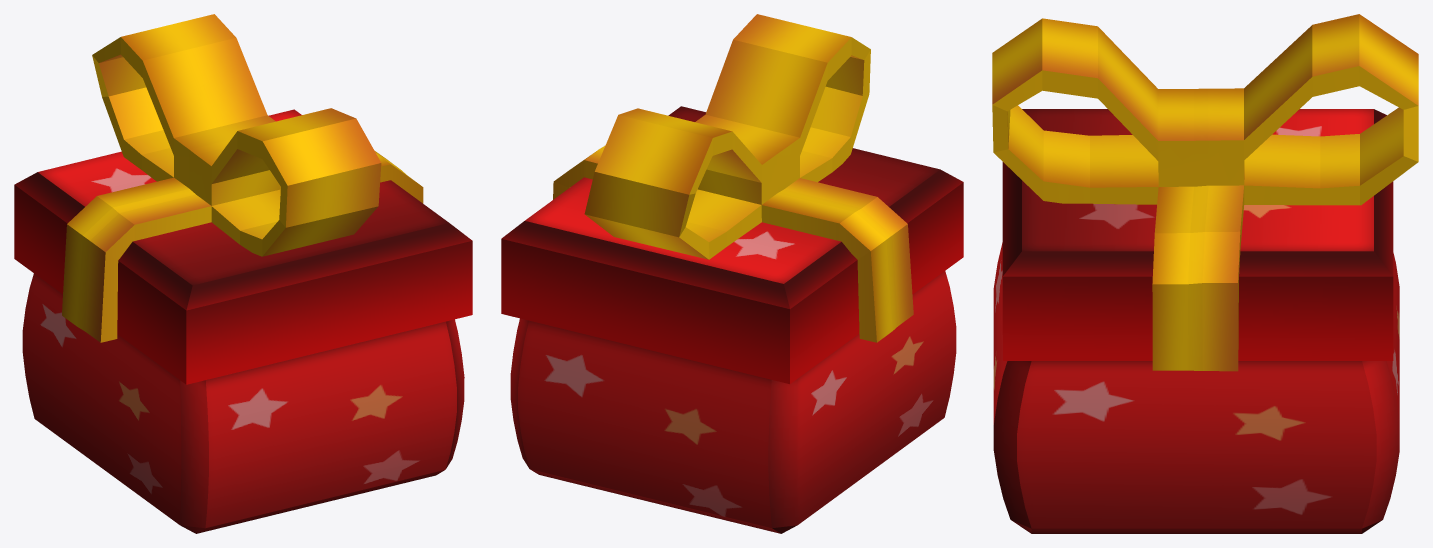
The model's file is Mystry_Box.fbx.
3 renders of one model, left to right at view 1: azimuth 30°, elevation 25°; view 2: azimuth 150°, elevation 25°; view 3: azimuth 270°, elevation 25°, orthographic. The views are drawn at different scales.
Parts seen in each view (by area): view 1: Cap_A, Main_A; view 2: Cap_A, Main_A; view 3: Cap_A, Main_A.
Part boxes in pixels (x1,y1,x2,y2): Cap_A: (14,14,472,384); Main_A: (22,273,464,533); Cap_A: (501,14,963,384); Main_A: (510,271,956,533); Cap_A: (992,14,1418,371); Main_A: (993,242,1399,533).
Bounding box in the file's own units: 20.95 × 23.13 × 21.02.
